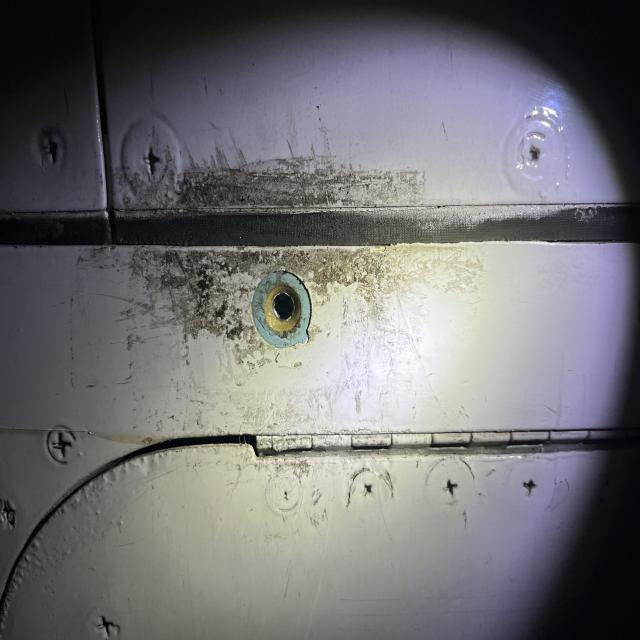Missing Fastener: (241, 266, 331, 362)
